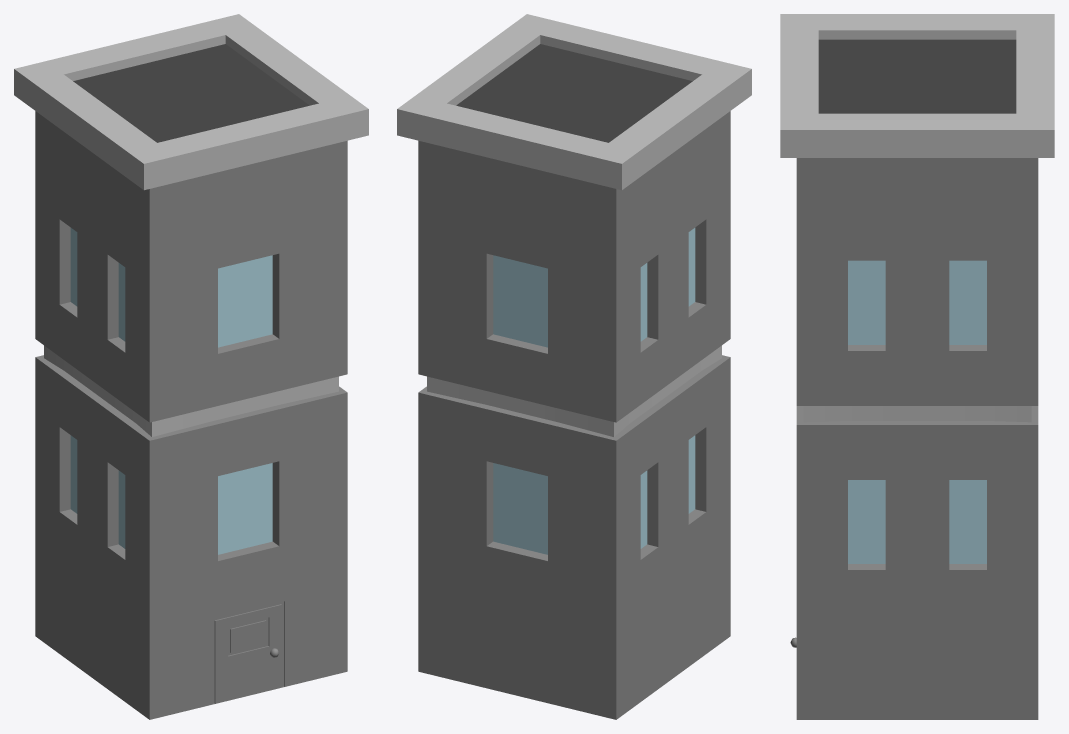
Rendered from M_Immeuble_01.FBX.
The picture shows the model from 3 angles, left to right: view 1: azimuth 30°, elevation 25°; view 2: azimuth 150°, elevation 25°; view 3: azimuth 270°, elevation 25°; orthographic projection. The views are drawn at different scales.
Visible parts, largest first — view 1: Immeuble001; view 2: Immeuble001; view 3: Immeuble001.
Part boxes in pixels (bbox=[...]): Immeuble001: bbox=[14, 14, 368, 719]; Immeuble001: bbox=[397, 14, 751, 719]; Immeuble001: bbox=[780, 14, 1054, 719].
Bounding box in the file's own units: 2.5 × 2.5 × 6.
